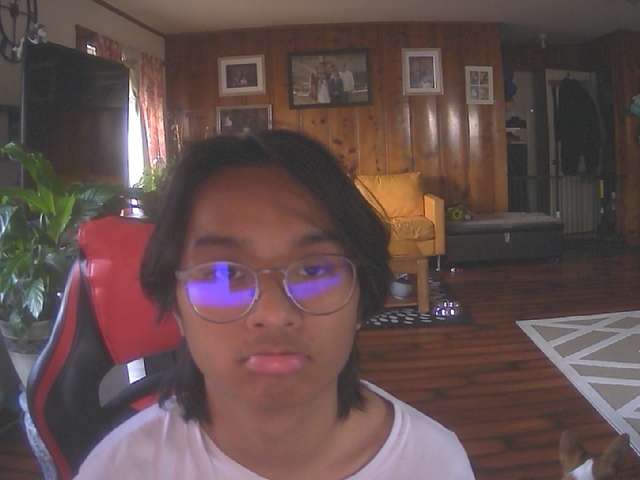sad: (165, 139, 378, 414)
